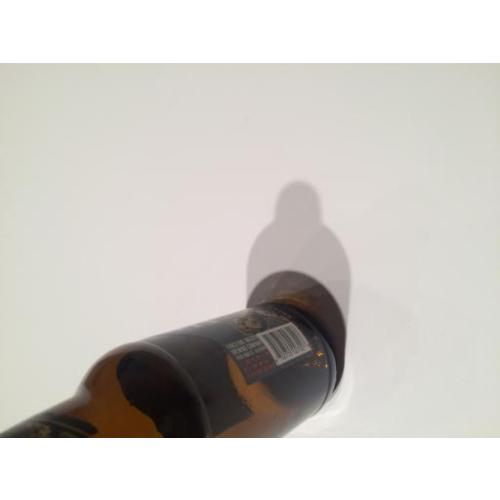glass: (0, 302, 340, 435)
